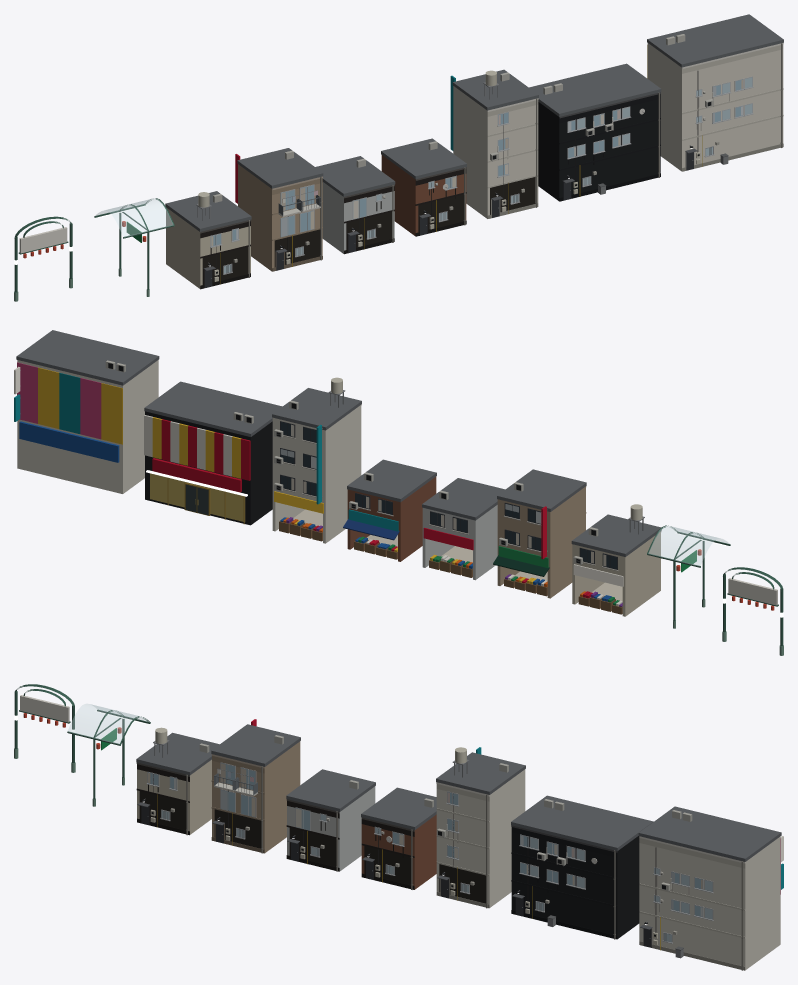
File: kitaarcade.glb
3 views of the same model, one above another, from view 1: azimuth 30°, elevation 25°; view 2: azimuth 150°, elevation 25°; view 3: azimuth 330°, elevation 25° (orthographic). The views are drawn at different scales.
Parts seen in each view (by area): view 1: kitaarcade_game_body, kitaarcade_pachi_body, kitaarcade_se_body, kitaarcade_sb_body, kitaarcade_sa_body, kitaarcade_sd_body, kitaarcade_sc_body, kitaarcade_roof_body, kitaarcade_gate_body; view 2: kitaarcade_game_body, kitaarcade_pachi_body, kitaarcade_se_body, kitaarcade_sb_body, kitaarcade_sa_body, kitaarcade_sd_body, kitaarcade_sc_body, kitaarcade_roof_body, kitaarcade_gate_body, kitaarcade_se_signs, kitaarcade_sb_signs; view 3: kitaarcade_game_body, kitaarcade_pachi_body, kitaarcade_se_body, kitaarcade_sb_body, kitaarcade_sc_body, kitaarcade_sa_body, kitaarcade_sd_body, kitaarcade_roof_body, kitaarcade_gate_body.
Boxes of the visible parts, bbox=[...] form: kitaarcade_game_body: bbox=[647, 14, 783, 171]; kitaarcade_pachi_body: bbox=[529, 63, 661, 201]; kitaarcade_se_body: bbox=[451, 69, 538, 218]; kitaarcade_sb_body: bbox=[235, 148, 323, 271]; kitaarcade_sa_body: bbox=[165, 191, 251, 289]; kitaarcade_sd_body: bbox=[381, 138, 466, 236]; kitaarcade_sc_body: bbox=[315, 156, 395, 254]; kitaarcade_roof_body: bbox=[94, 198, 174, 296]; kitaarcade_gate_body: bbox=[14, 216, 72, 301]; kitaarcade_game_body: bbox=[14, 330, 159, 493]; kitaarcade_pachi_body: bbox=[144, 381, 282, 525]; kitaarcade_se_body: bbox=[272, 377, 361, 543]; kitaarcade_sb_body: bbox=[493, 469, 586, 598]; kitaarcade_sa_body: bbox=[571, 504, 661, 616]; kitaarcade_sd_body: bbox=[343, 459, 436, 561]; kitaarcade_sc_body: bbox=[422, 478, 504, 580]; kitaarcade_roof_body: bbox=[647, 525, 730, 628]; kitaarcade_gate_body: bbox=[722, 567, 783, 655]; kitaarcade_se_signs: bbox=[274, 425, 323, 513]; kitaarcade_sb_signs: bbox=[498, 507, 547, 567]; kitaarcade_game_body: bbox=[638, 806, 783, 970]; kitaarcade_pachi_body: bbox=[511, 795, 653, 939]; kitaarcade_se_body: bbox=[436, 747, 525, 908]; kitaarcade_sb_body: bbox=[211, 719, 300, 853]; kitaarcade_sc_body: bbox=[286, 769, 375, 871]; kitaarcade_sa_body: bbox=[136, 727, 219, 835]; kitaarcade_sd_body: bbox=[361, 787, 436, 889]; kitaarcade_roof_body: bbox=[67, 704, 150, 806]; kitaarcade_gate_body: bbox=[14, 684, 75, 772].
Size of the model in its own units: 87.01 by 15.33 by 9.05.
